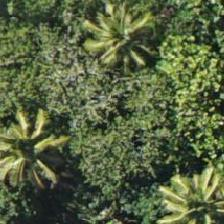coconut_tree: (61, 0, 151, 86), (0, 89, 70, 179), (152, 157, 223, 223)
